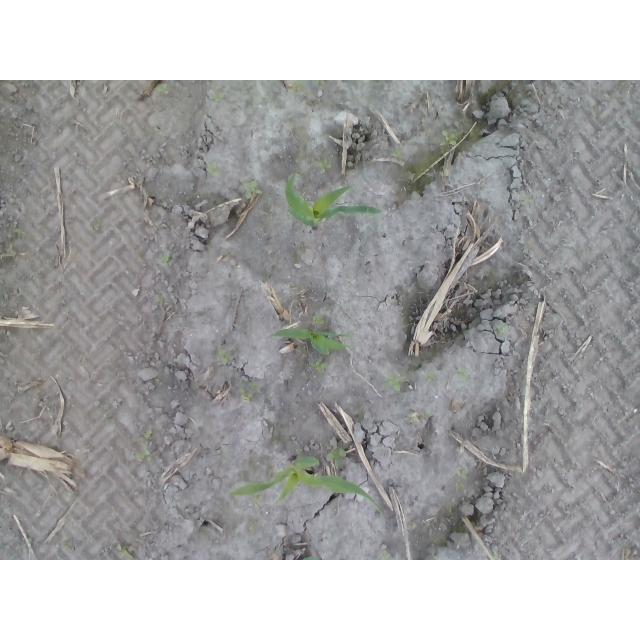Maize: (229, 454, 387, 515), (285, 173, 384, 231), (268, 329, 355, 356)
Weeds: (326, 447, 347, 470), (137, 432, 153, 462), (382, 375, 402, 393), (313, 359, 332, 374), (243, 181, 258, 200), (216, 349, 232, 366), (441, 130, 458, 146), (238, 388, 256, 403), (118, 545, 135, 560), (155, 84, 170, 98), (286, 80, 300, 92), (320, 159, 332, 173), (456, 369, 468, 383), (496, 324, 508, 336), (456, 468, 468, 480), (312, 315, 325, 325), (208, 95, 224, 103), (392, 148, 402, 160), (379, 550, 391, 560), (425, 372, 435, 384), (163, 255, 173, 266), (206, 165, 216, 176)
